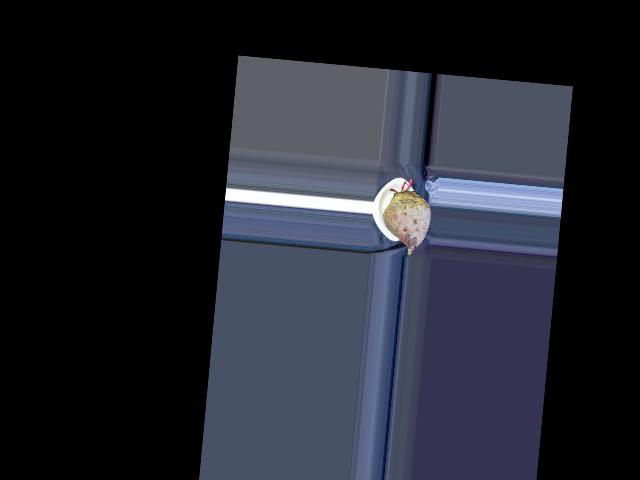beet: (379, 176, 433, 255)
